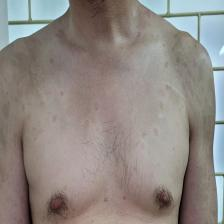Psoriasis vulgaris: (57, 87, 70, 103)
